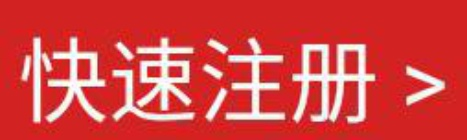TextView: (1, 1, 466, 139)
